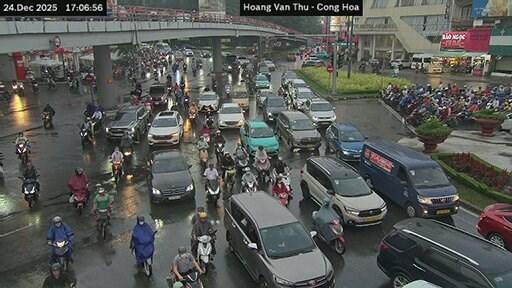motorbike: (313, 211, 345, 253), (197, 229, 216, 273), (140, 229, 156, 277), (19, 176, 38, 207), (51, 238, 69, 270), (70, 190, 86, 215), (96, 208, 108, 238), (182, 270, 202, 286), (224, 166, 236, 190), (256, 157, 268, 181), (274, 172, 290, 189), (205, 181, 217, 203), (236, 153, 248, 174), (16, 143, 28, 162), (214, 142, 224, 162), (80, 126, 91, 144), (198, 148, 207, 170), (204, 115, 214, 133), (112, 161, 121, 181), (275, 193, 288, 206), (242, 180, 256, 192), (199, 131, 210, 144), (42, 112, 51, 127), (121, 145, 131, 158), (67, 76, 77, 89), (12, 81, 22, 94), (167, 274, 176, 286), (188, 109, 195, 124), (32, 81, 38, 94), (182, 97, 188, 109), (0, 152, 3, 176), (48, 77, 54, 88), (224, 85, 230, 95), (179, 82, 184, 90), (153, 71, 157, 81), (192, 67, 195, 76), (131, 248, 134, 255)
